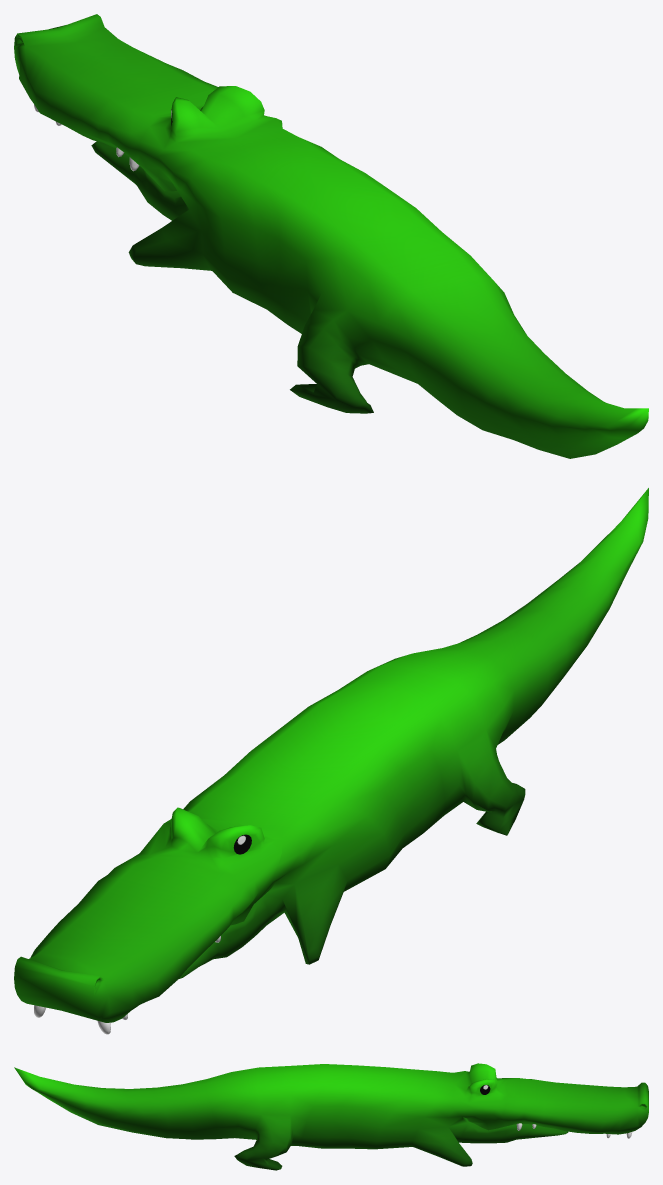
The model's file is alligator.obj.
3 renders of one model, top to bottom at view 1: azimuth 30°, elevation 25°; view 2: azimuth 150°, elevation 25°; view 3: azimuth 270°, elevation 25°, orthographic. The views are drawn at different scales.
Visible parts, largest first — view 1: Alligator; view 2: Alligator; view 3: Alligator.
Part boxes in pixels (x1,y1,x2,y2): Alligator: (14, 14, 648, 458); Alligator: (14, 488, 648, 1034); Alligator: (14, 1063, 648, 1170).
Size of the model in its own units: 0.3353 by 0.2134 by 1.59.
Materials: 1 (1 with a texture image).
